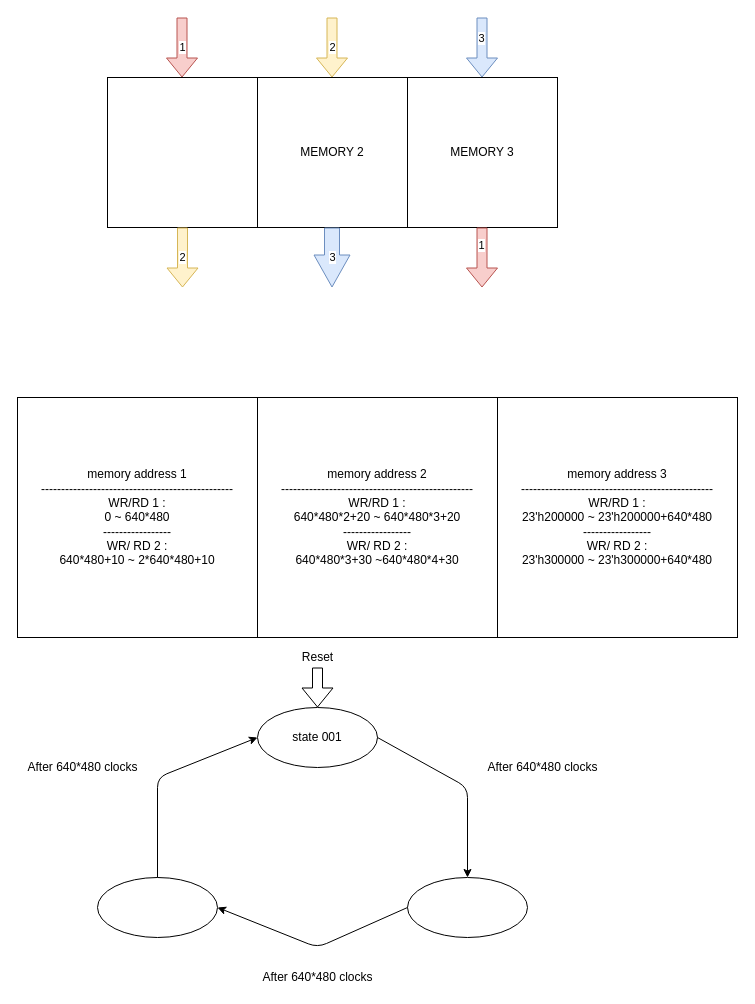
Some shapes in this 755 by 1004 pixel diagram are drawn without their labels. Here are the shapes that lost their labels. From the top down, the box of each, then its label:
(106, 76, 258, 228): MEMORY 1
(96, 876, 218, 938): state 100
(406, 876, 528, 938): state 010
